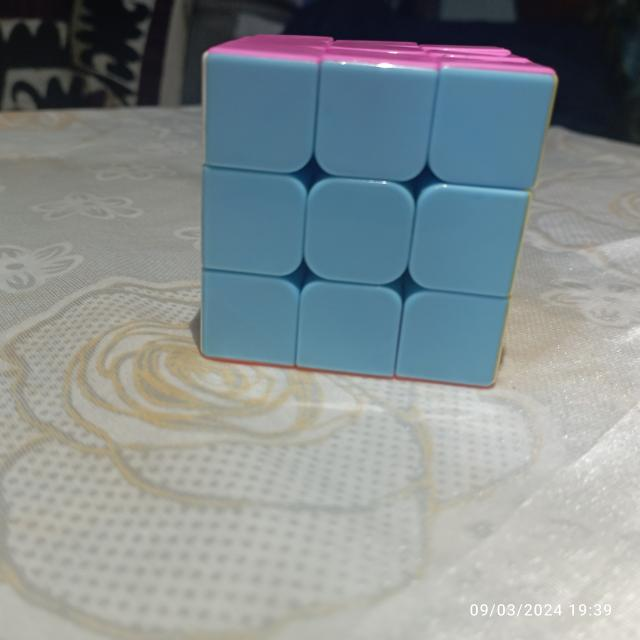Rub: (192, 24, 560, 395)
